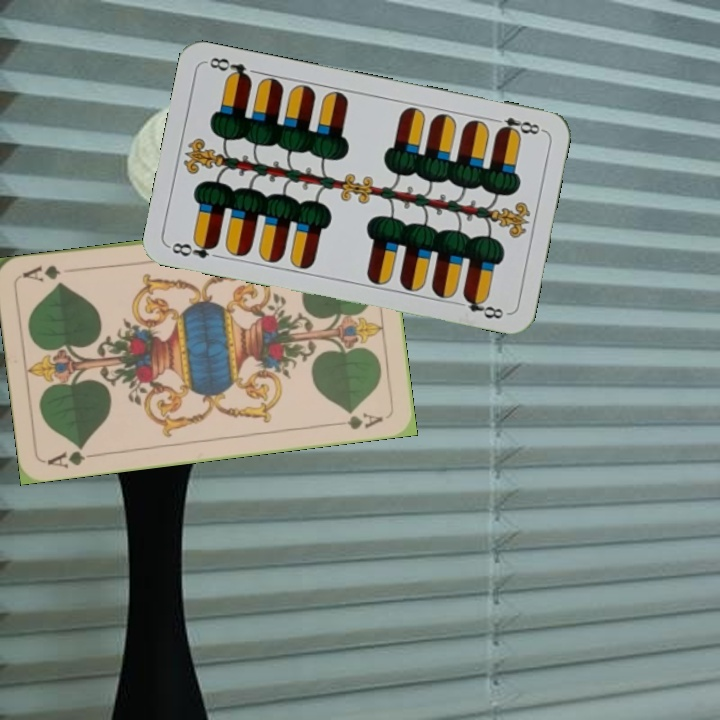E8: (487, 113, 546, 139), (166, 235, 221, 261)
GA: (43, 441, 101, 471)
